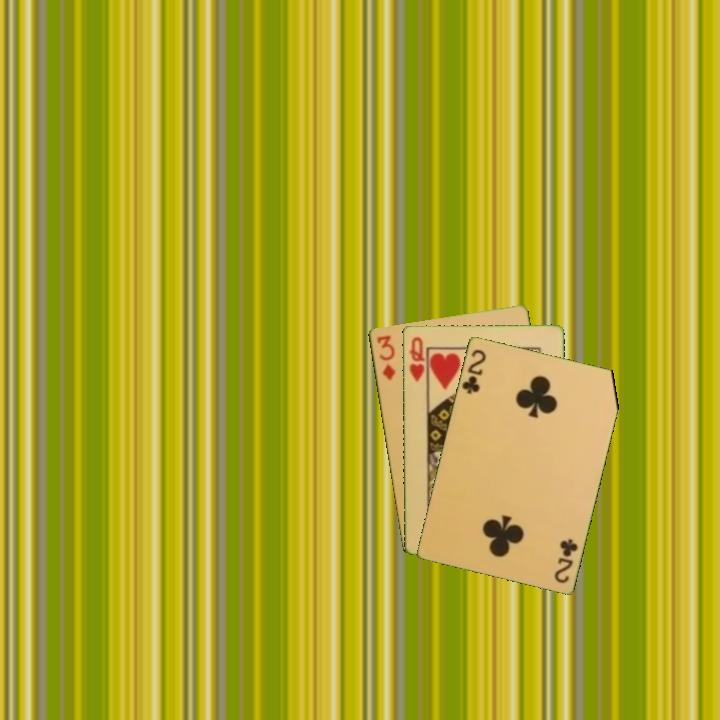2c: (458, 345, 489, 397), (550, 535, 580, 586)
3d: (373, 331, 398, 383)
Qh: (405, 333, 428, 385)
